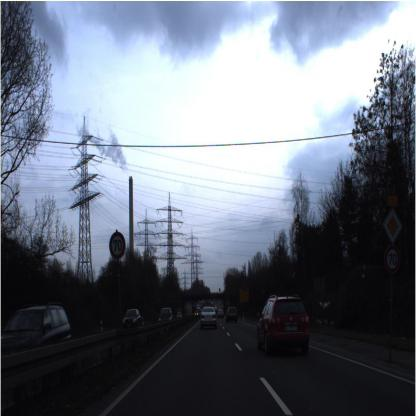other: (380, 209, 404, 244)
prohibitory: (383, 244, 400, 275), (110, 230, 126, 261)
